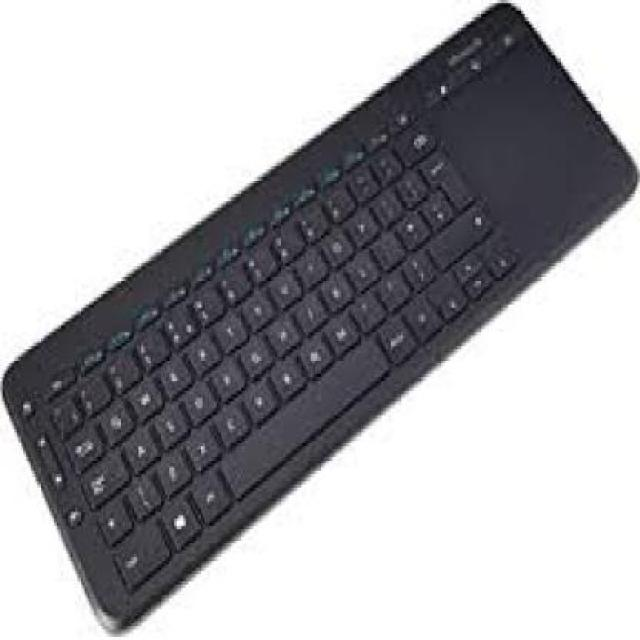keyboard: (8, 19, 640, 637)
